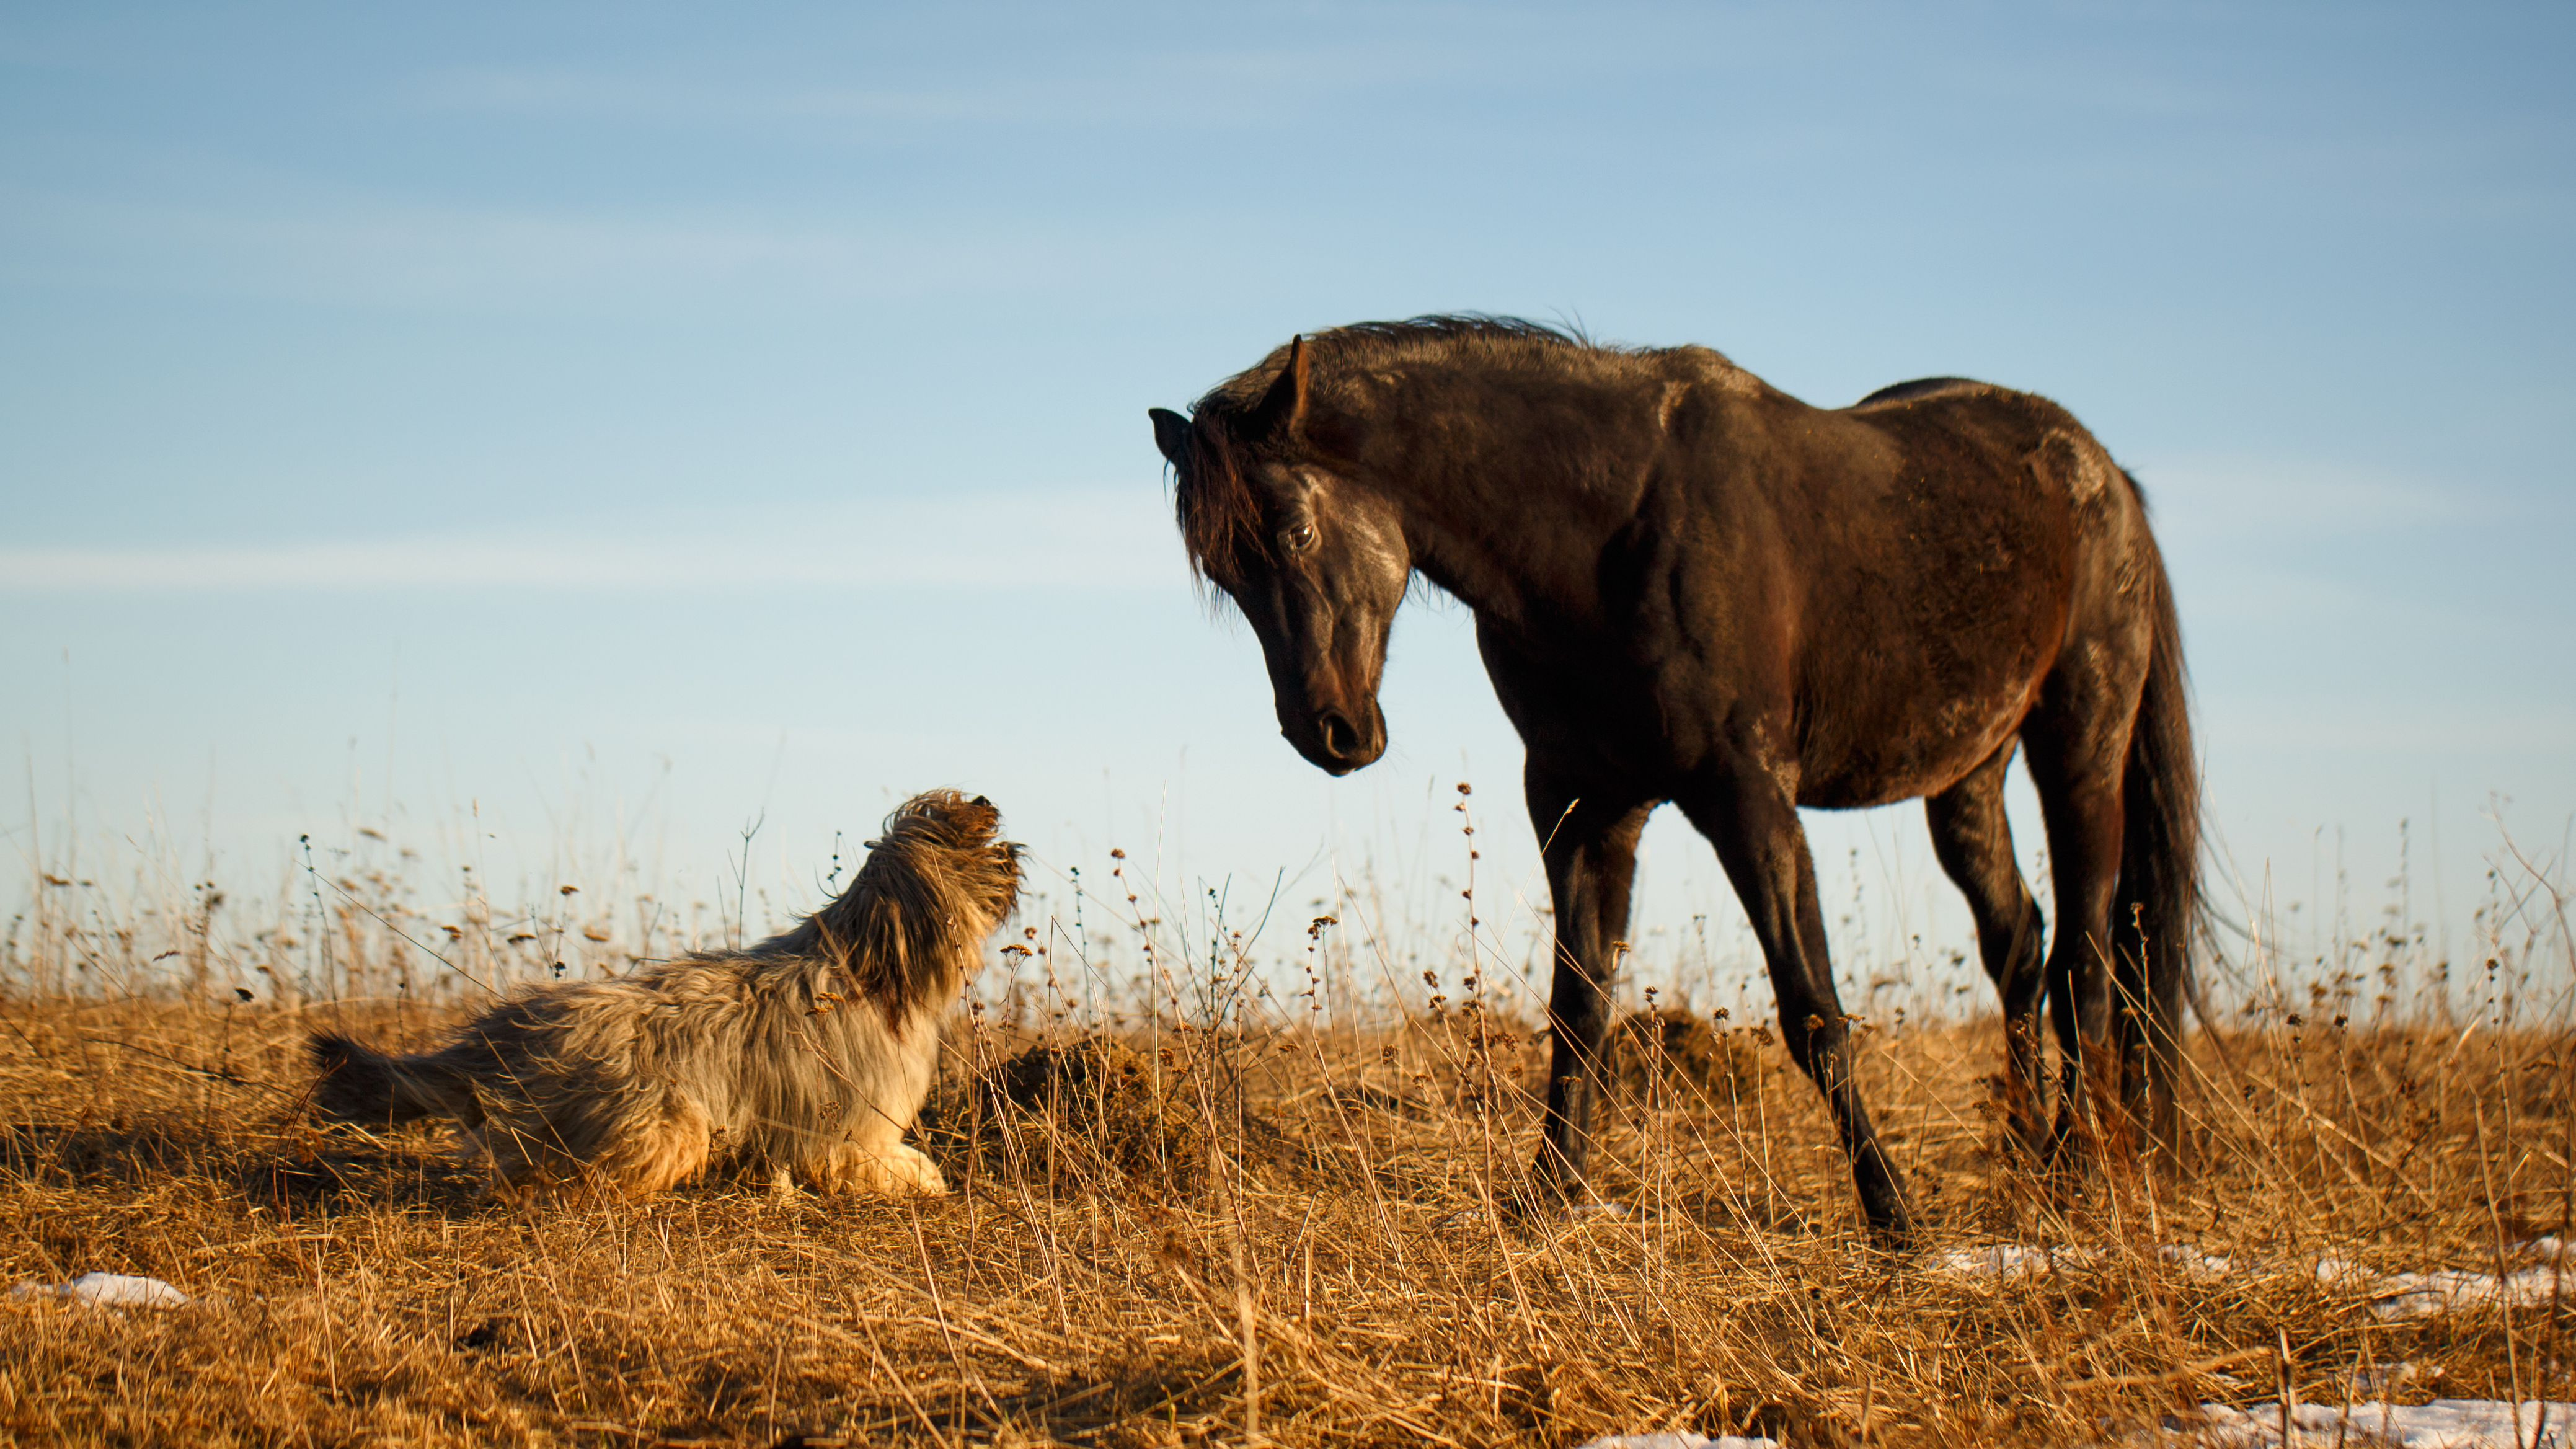Dog: (327, 787, 1090, 1269)
Horse: (1152, 253, 2330, 1198)
